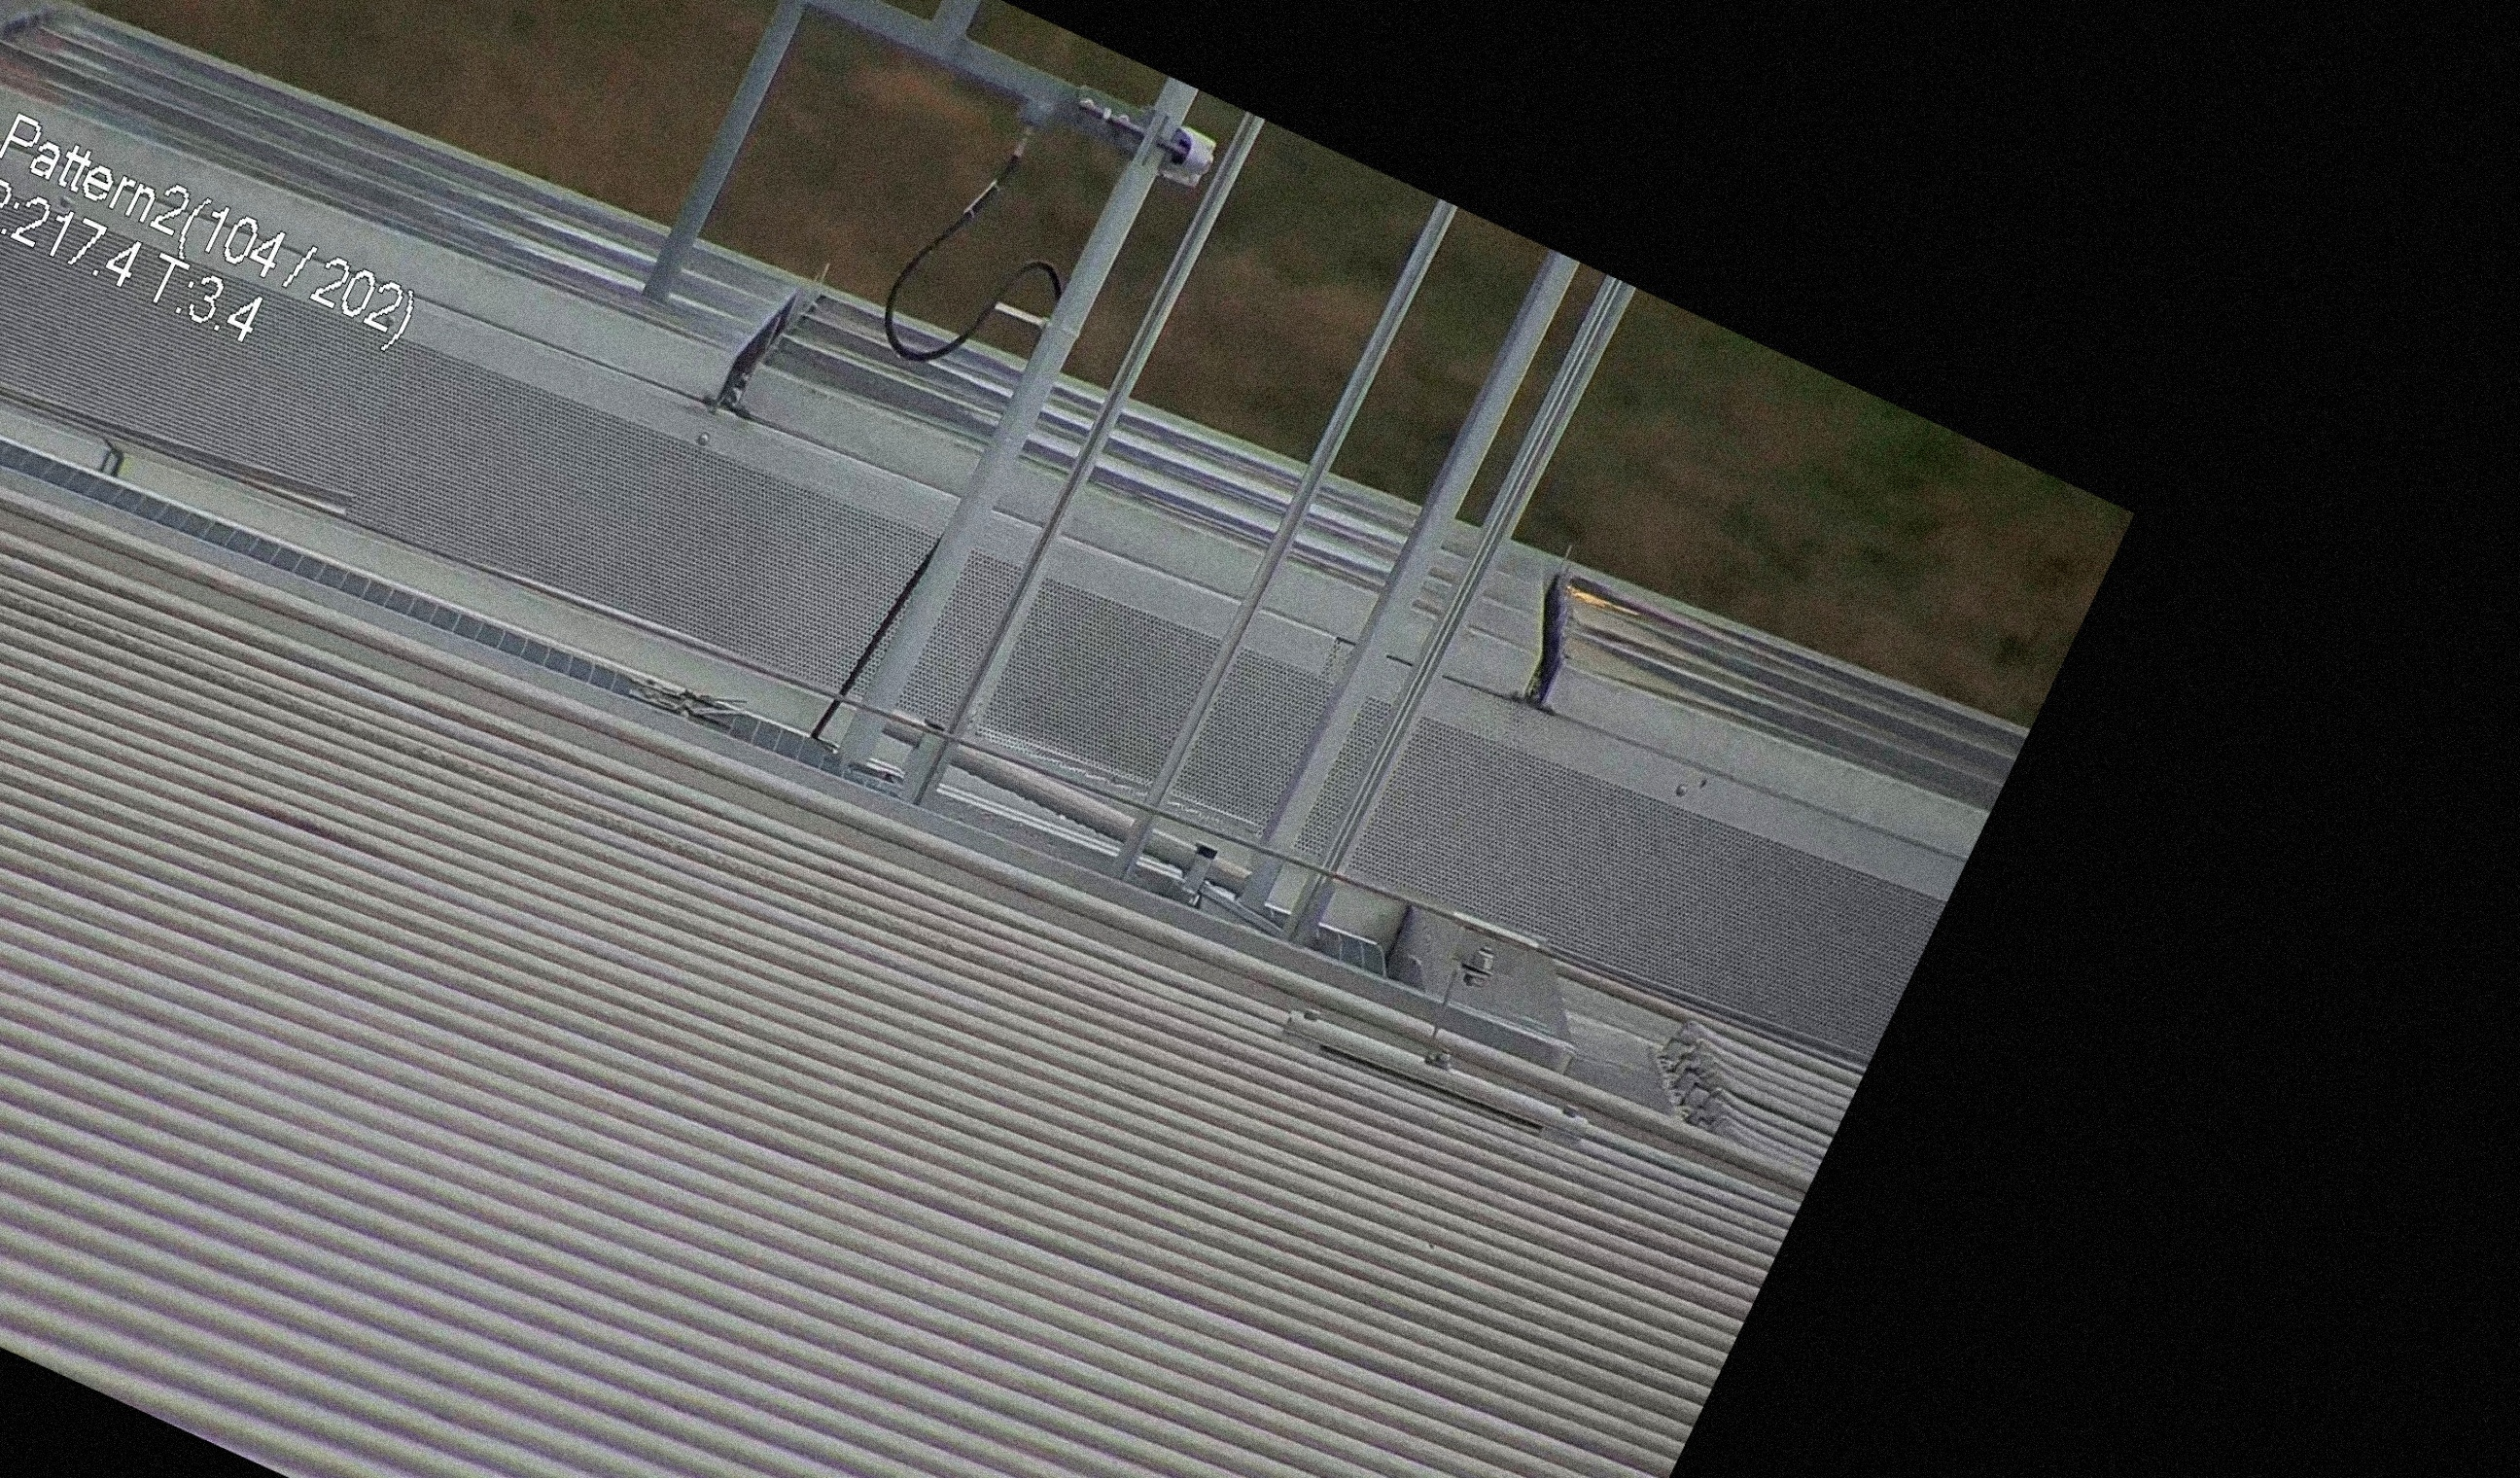Other: (1475, 537, 1641, 728)
